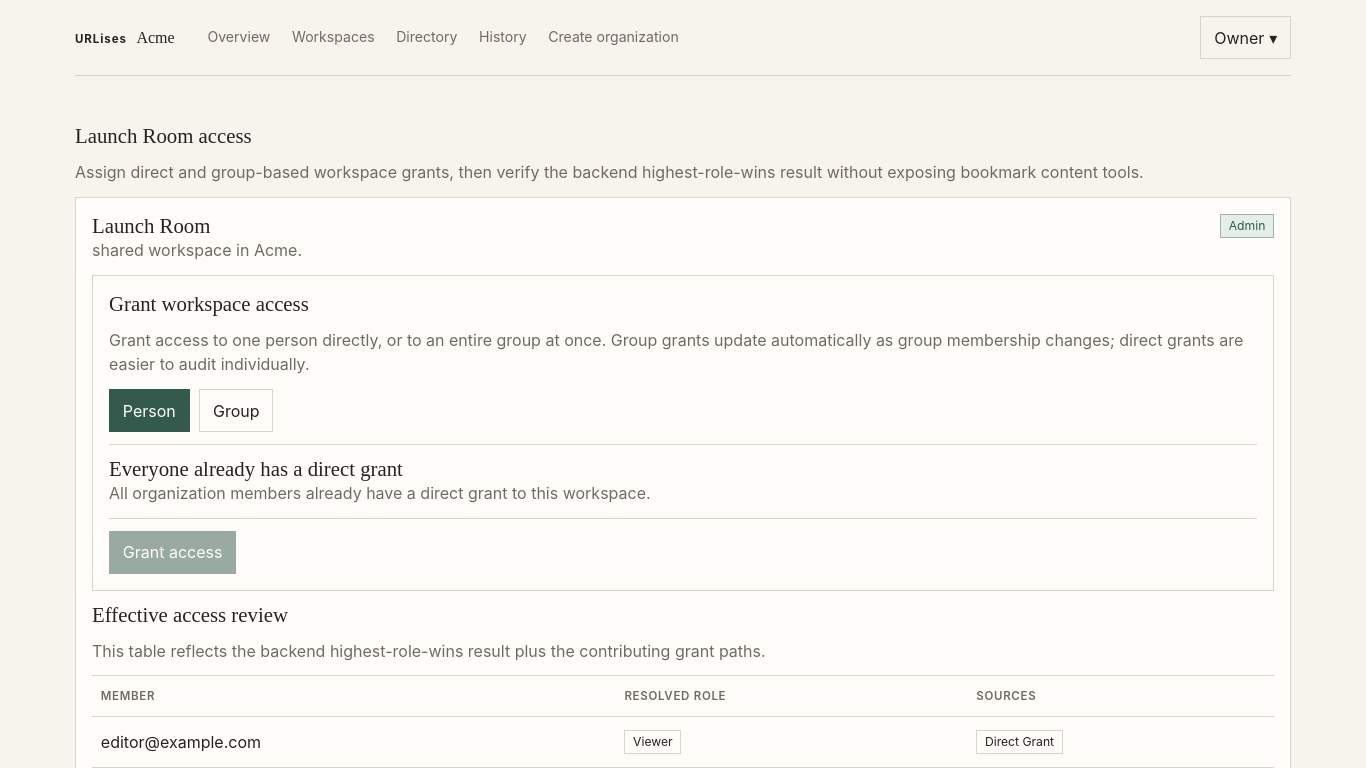
Test case: access page › shows an empty state instead of a dropdown when nothing is left to grant
expect the heading "Everyone already has a direct grant" is shown: met, box [109,457,403,480]
expect the button "Grant access" is disabled: met, box [109,531,236,574]
Click the button "Group" at (236, 411), box [199,389,273,432]
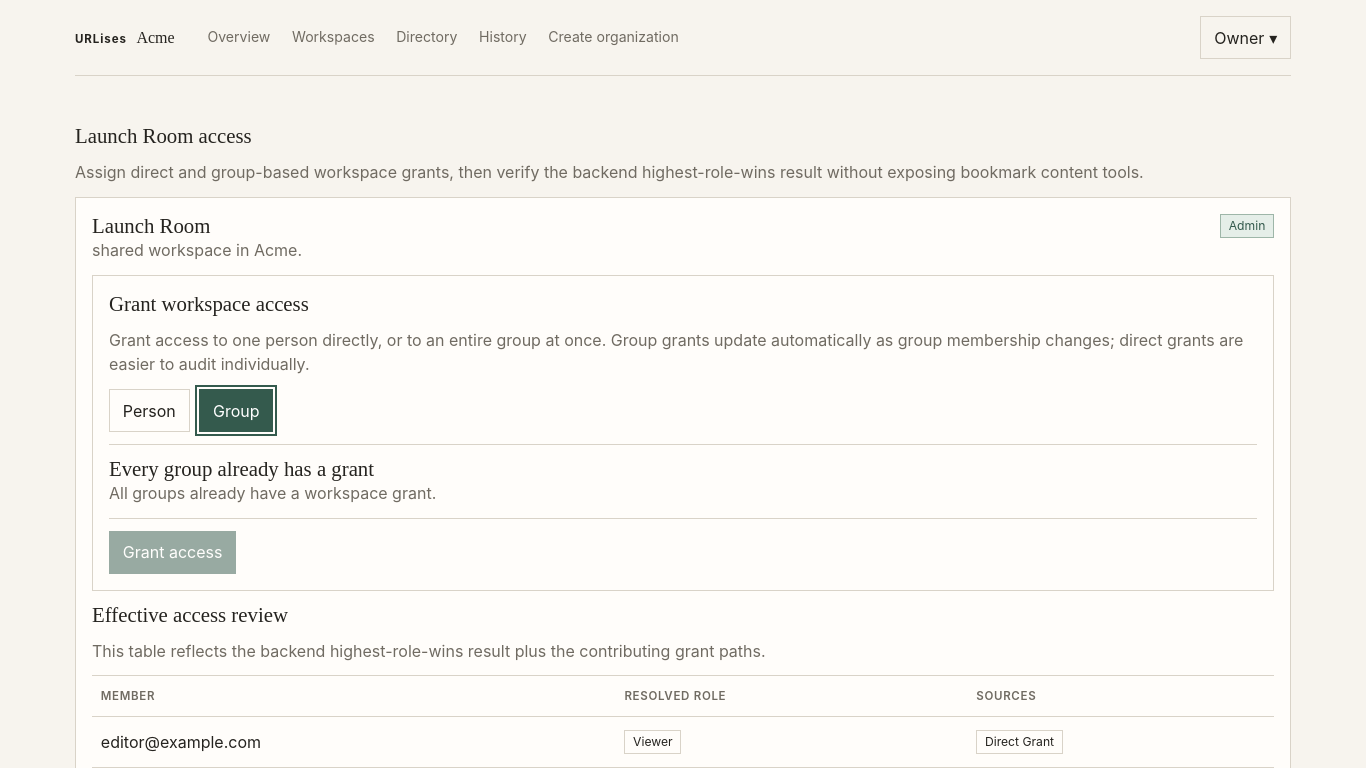
expect the button "Grant access" is disabled: met, box [109,531,236,574]
expect the heading "Every group already has a grant" is shown: met, box [109,457,374,480]
